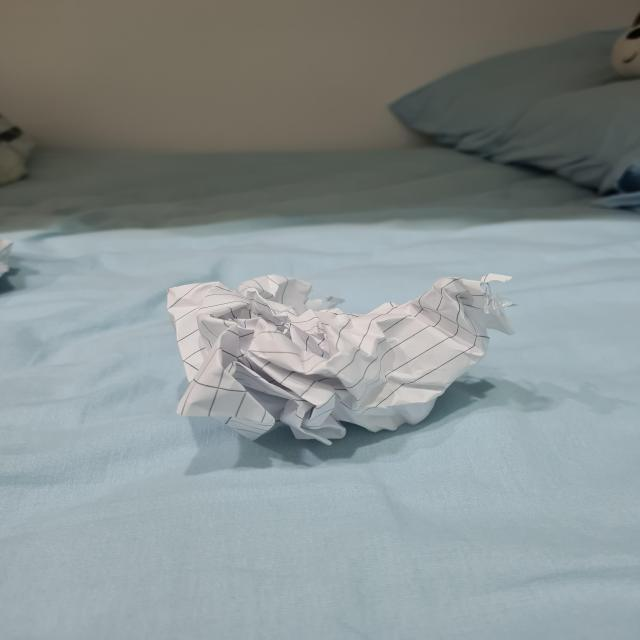cardboard paper: (166, 274, 509, 442)
